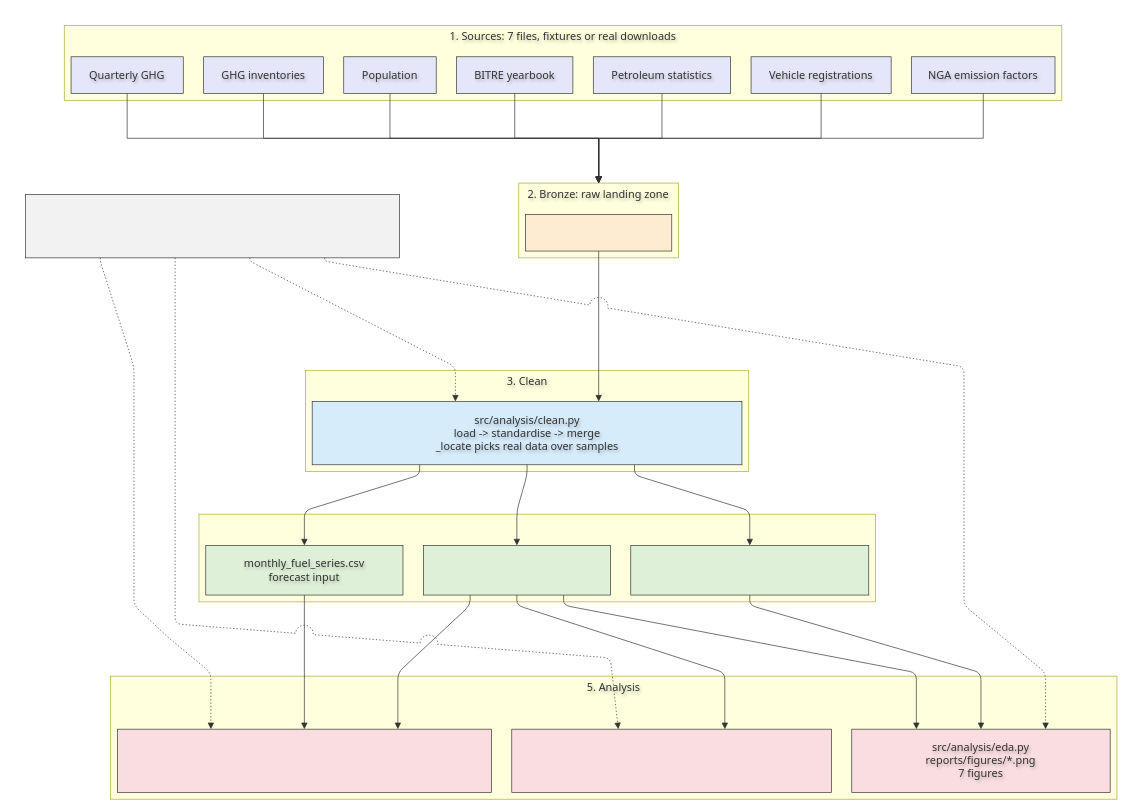
Some shapes in this 1129 by 811 pixel diagram are drawn without their labels. Here are the shapes that lost their labels. From the top down, the box of each, then its label:
(25, 194, 400, 258): run_pipeline.py clean, eda, model, validate single command, no scheduler
(525, 214, 672, 251): data/bronze/[source]/[date]
(423, 545, 610, 595): annual_master.csv main model input
(198, 513, 876, 602): 4. Curated tables
(630, 545, 869, 595): annual_master_with_population.csv per-capita
(117, 728, 491, 792): src/analysis/model.py reports/model_results/ (regression and fuel forecast)
(511, 728, 831, 792): src/analysis/validate.py reports/validation/ fuel x factor check
